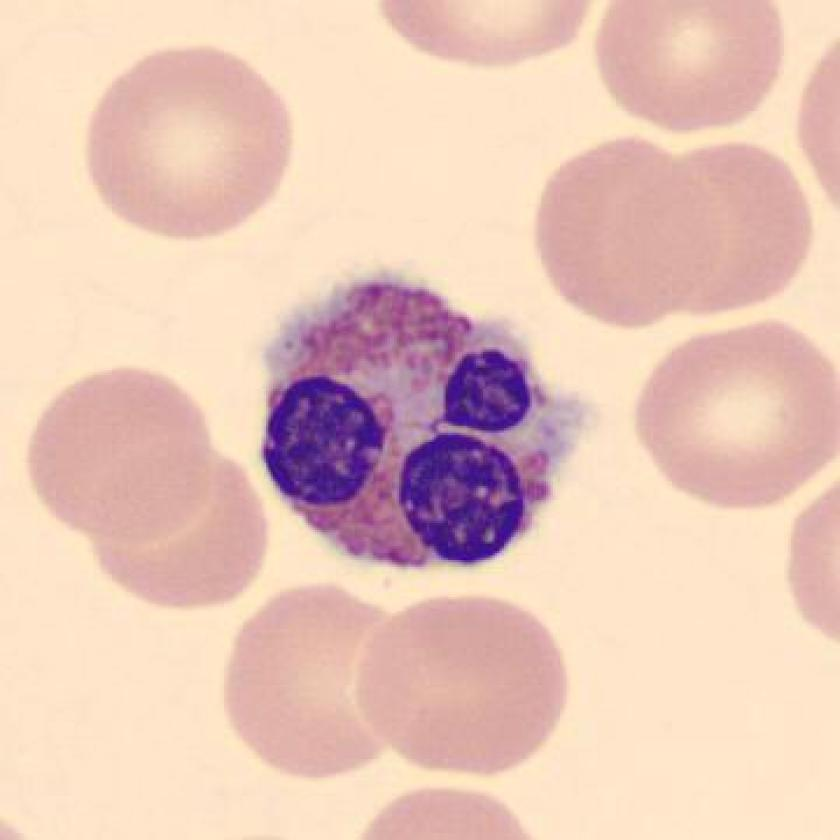eosinophil: (256, 270, 578, 584)
